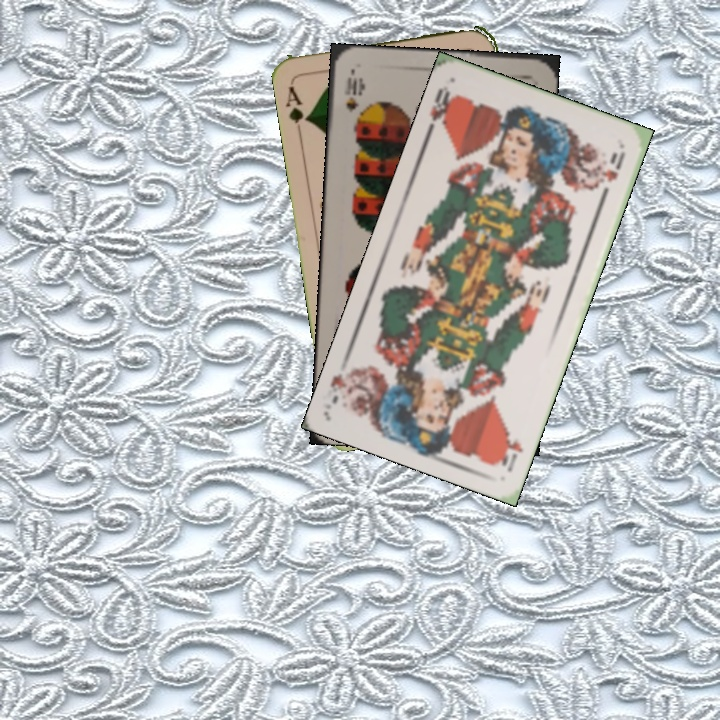GA: (282, 80, 313, 138)
HO: (422, 82, 460, 138), (492, 428, 526, 475)
S10: (340, 70, 364, 115)
